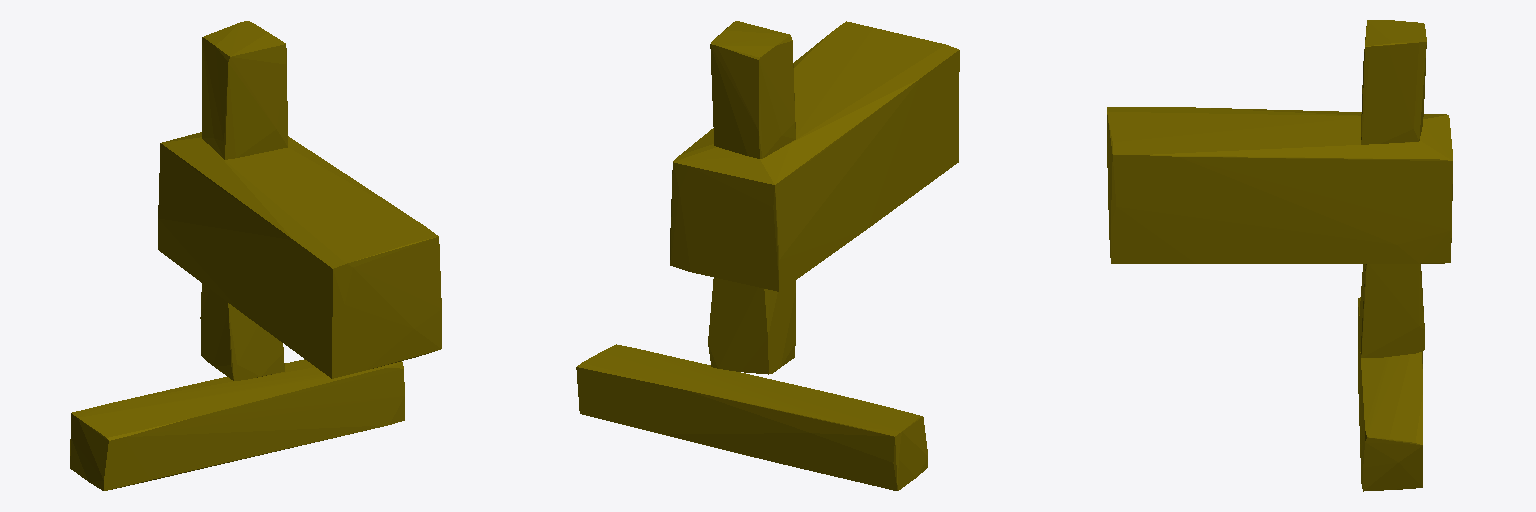
robot.urdf — blob217:
<robot name="blob217">
  <link name="random_obj_217">
    <contact>
      <lateral_friction value="1.0"/>
      <rolling_friction value="0.0"/>
      <inertia_scaling value="3.0"/>
      <contact_cfm value="0.0"/>
      <contact_erp value="1.0"/>
    </contact>
    <inertial>
      <origin rpy="0 0 0" xyz="0 0 0"/>
      <mass value="0.1"/>
      <inertia ixx="1" ixy="0" ixz="0" iyy="1" iyz="0" izz="0"/>
    </inertial>
    <visual>
      <origin rpy="0 0 0" xyz="0 0 0"/>
      <geometry>
        <mesh filename="217.obj" scale="0.015 0.015 0.015"/>
      </geometry>
      <material name="blockmat">
        <color rgba="0.50 0.44 0.03 1"/>
      </material>
    </visual>
    <collision>
      <origin rpy="0 0 0" xyz="0 0 0"/>
      <geometry>
        <mesh filename="217.obj" scale="0.015 0.015 0.015"/>
      </geometry>
    </collision>
  </link>
</robot>

--- Facts derived from the render (not from the file) ---
Views: 3 orthographic renders of the robot side by side, from view 1: azimuth 30°, elevation 25°; view 2: azimuth 150°, elevation 25°; view 3: azimuth 270°, elevation 25°.
Robot: blob217 — 1 links, 0 joints (none); root link random_obj_217; default pose: every joint at zero.
Links seen in each view (by area): view 1: random_obj_217; view 2: random_obj_217; view 3: random_obj_217.
Link boxes in pixels (bbox=[...]): random_obj_217: bbox=[70, 21, 441, 490]; random_obj_217: bbox=[576, 21, 959, 490]; random_obj_217: bbox=[1107, 20, 1452, 491].
Size in the robot's own frame: 0.0931 by 0.0916 by 0.1144 metres.
1 mesh visuals loaded from 1 distinct referenced files (1 OBJ).